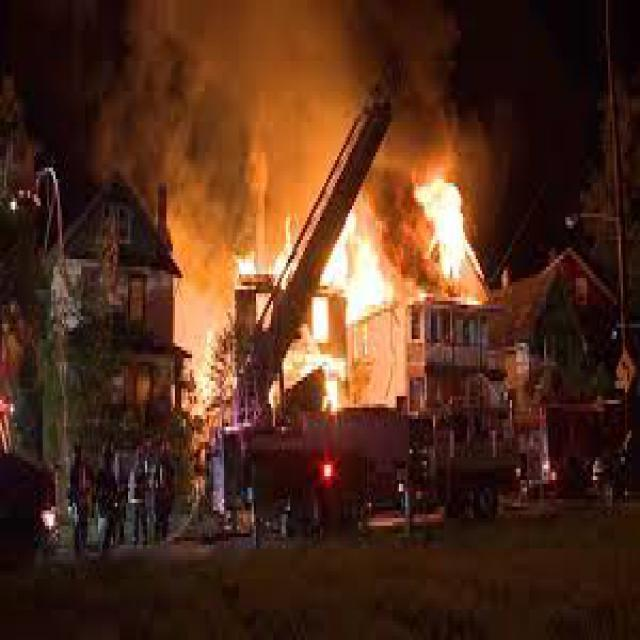Fire: (412, 163, 472, 284), (310, 234, 390, 316)
Smoke: (138, 0, 363, 199)
